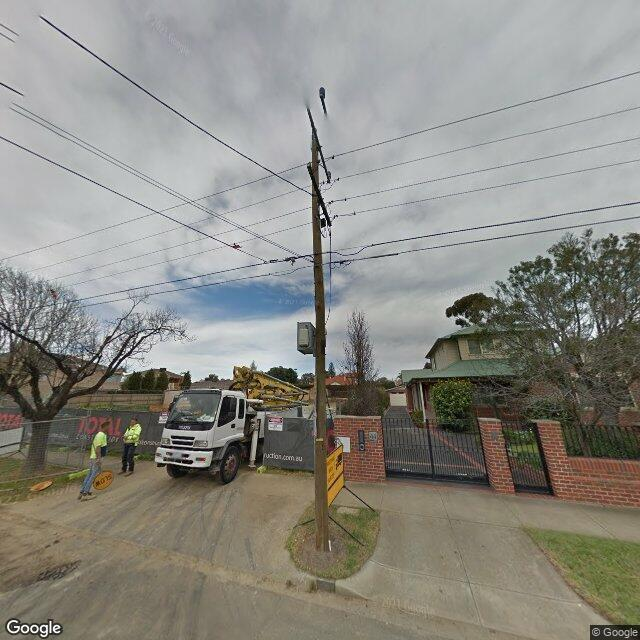crossarm: (307, 162, 331, 226)
streetlight: (306, 87, 331, 184)
timber-pole: (312, 127, 330, 553)
transformer: (297, 322, 316, 354)
